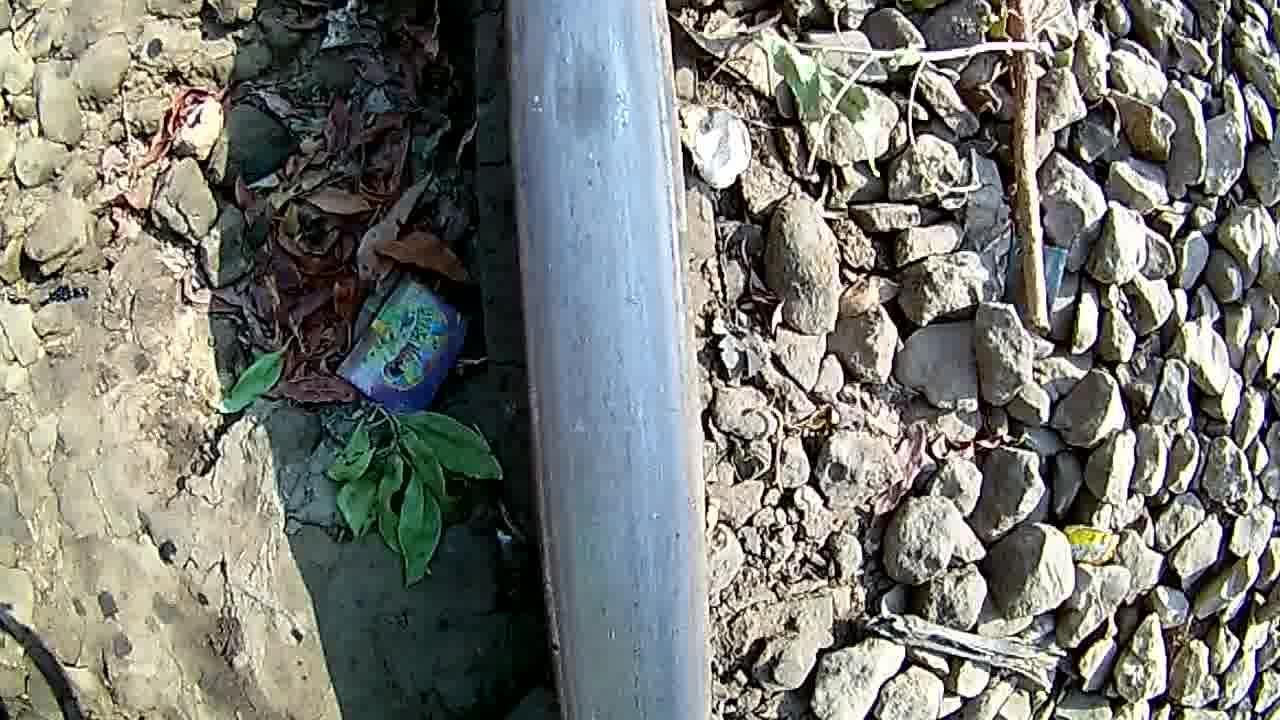crack: (498, 0, 672, 296)
